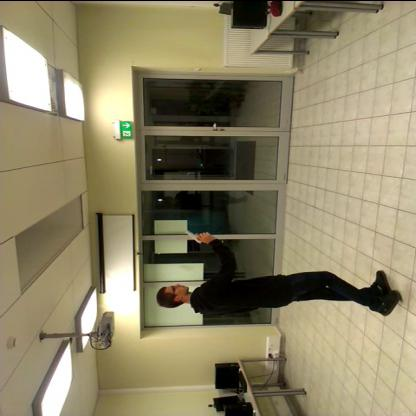Pistol: (181, 218, 215, 246)
